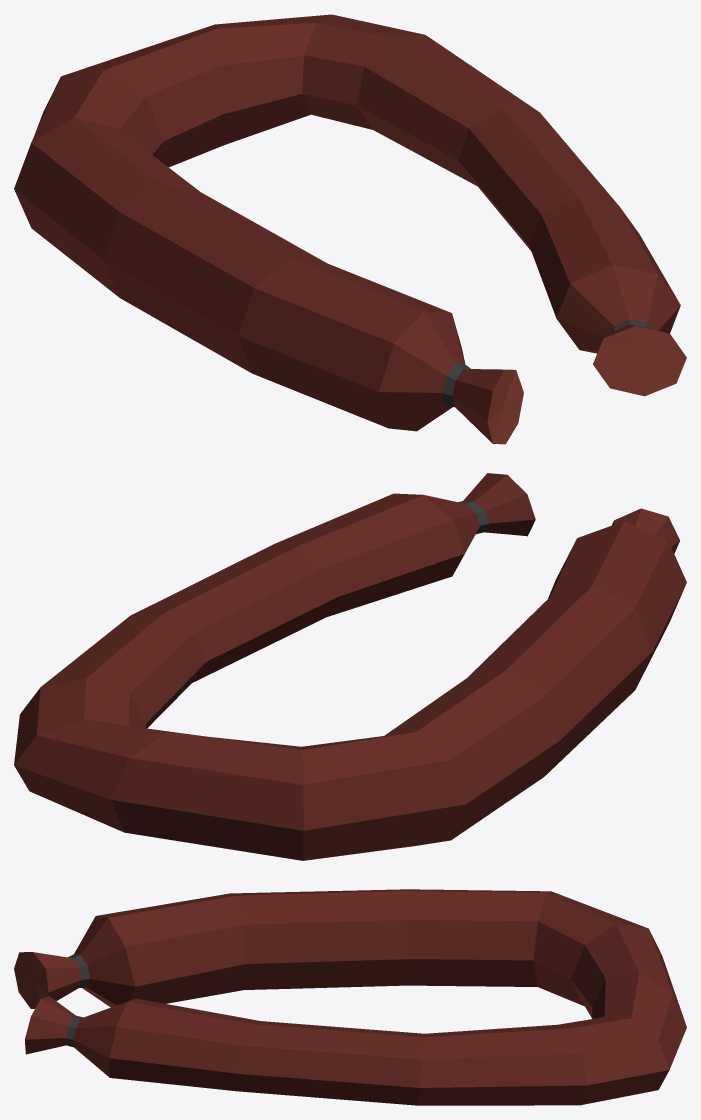
File: Sausage_1.fbx
3 renders of one model, top to bottom at view 1: azimuth 30°, elevation 25°; view 2: azimuth 150°, elevation 25°; view 3: azimuth 270°, elevation 25°, orthographic. The views are drawn at different scales.
Parts seen in each view (by area): view 1: Sausage_1; view 2: Sausage_1; view 3: Sausage_1.
Boxes of the visible parts, <box> form: Sausage_1: <box>14,14,686,444</box>; Sausage_1: <box>14,473,686,860</box>; Sausage_1: <box>14,889,686,1105</box>.
Size of the model in its own units: 49.49 by 12.78 by 80.98.
